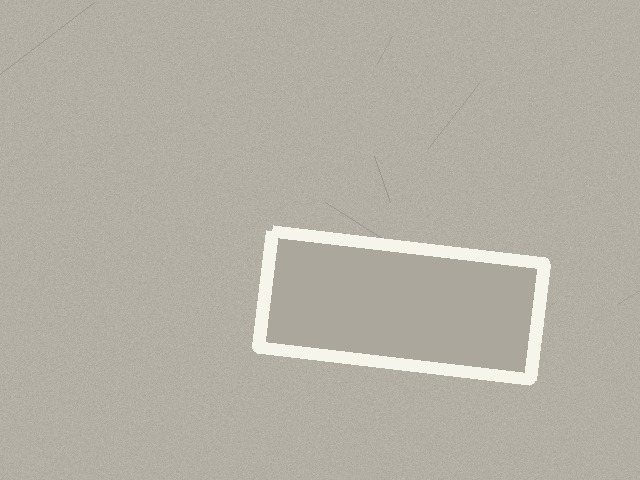parking_area: (258, 231, 544, 379)
